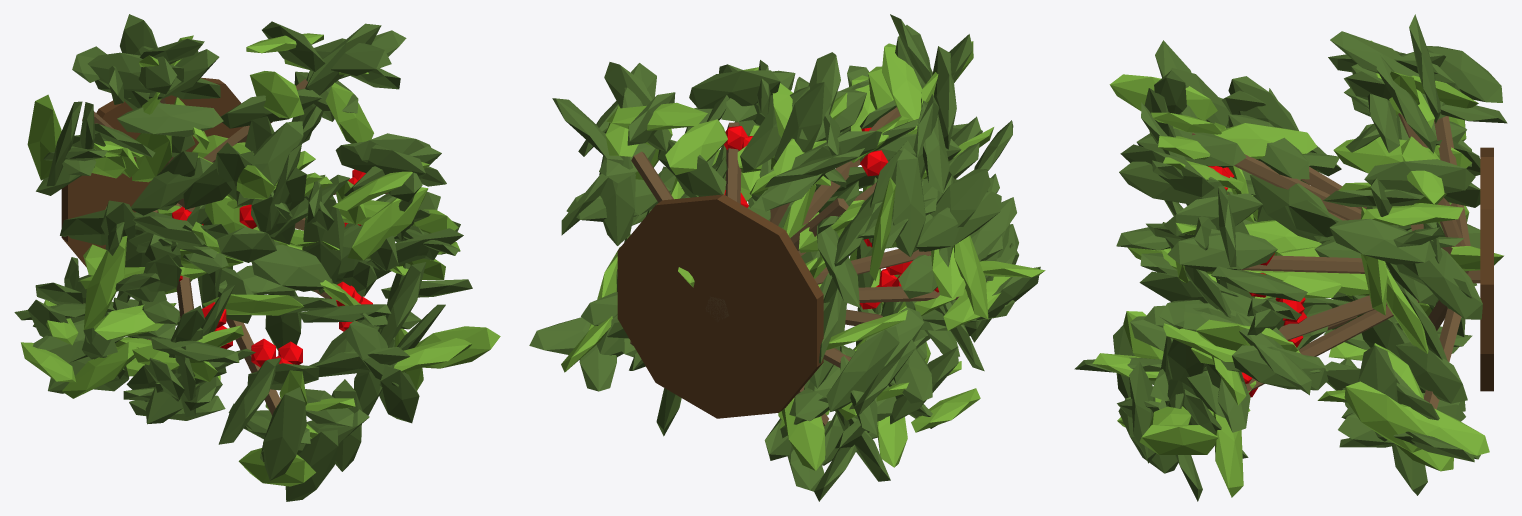
File: 5_mature_full.obj
The picture shows the model from 3 angles, left to right: view 1: azimuth 30°, elevation 25°; view 2: azimuth 150°, elevation 25°; view 3: azimuth 270°, elevation 25°; orthographic projection. The views are drawn at different scales.
Visible parts, largest first — view 1: redberry_5_mature_full; view 2: redberry_5_mature_full; view 3: redberry_5_mature_full.
Part boxes in pixels (x1,y1,x2,y2): redberry_5_mature_full: (14,14,500,501); redberry_5_mature_full: (529,14,1045,501); redberry_5_mature_full: (1074,14,1507,501).
Bounding box in the file's own units: 0.6981 × 0.6962 × 0.629.
